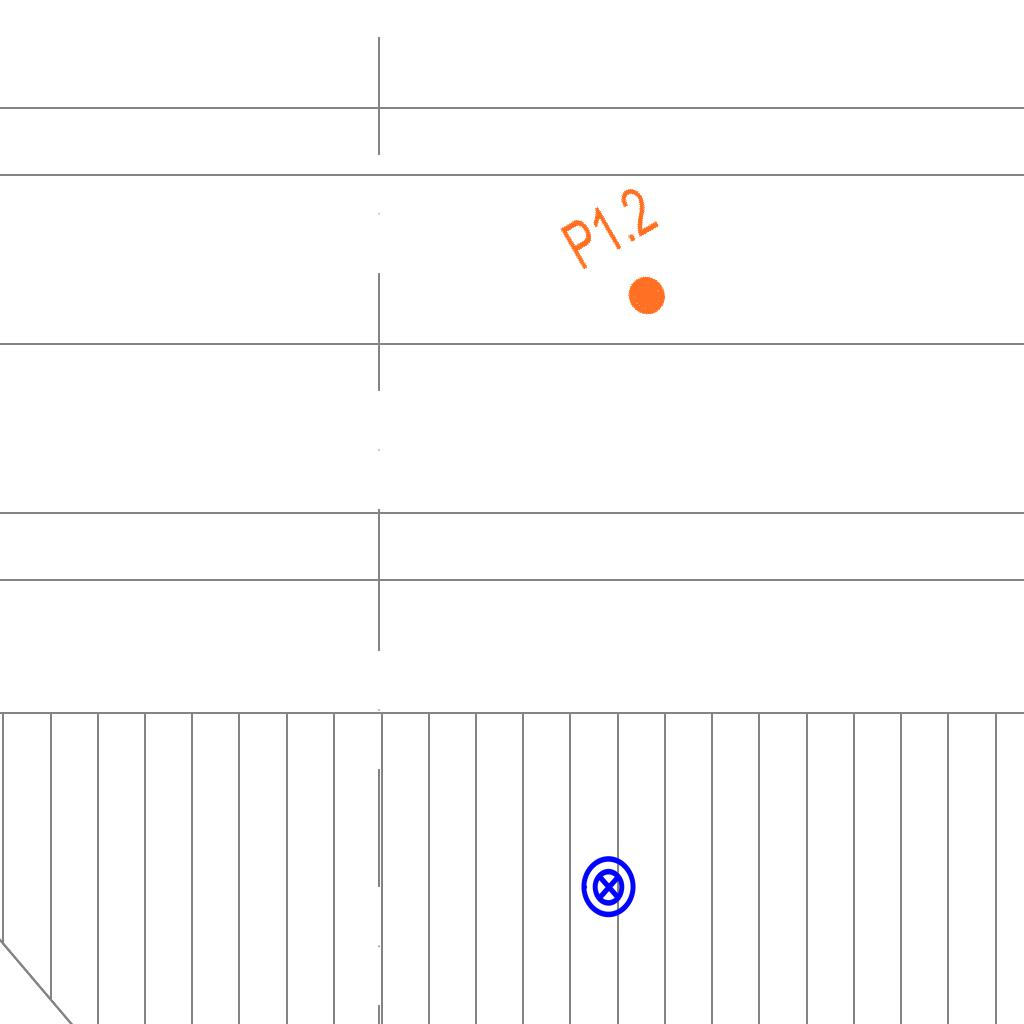Downlight_LED_Einbauleuchten_Flur: (555, 180, 700, 338)
Taster_beleuchtet: (576, 854, 642, 920)
